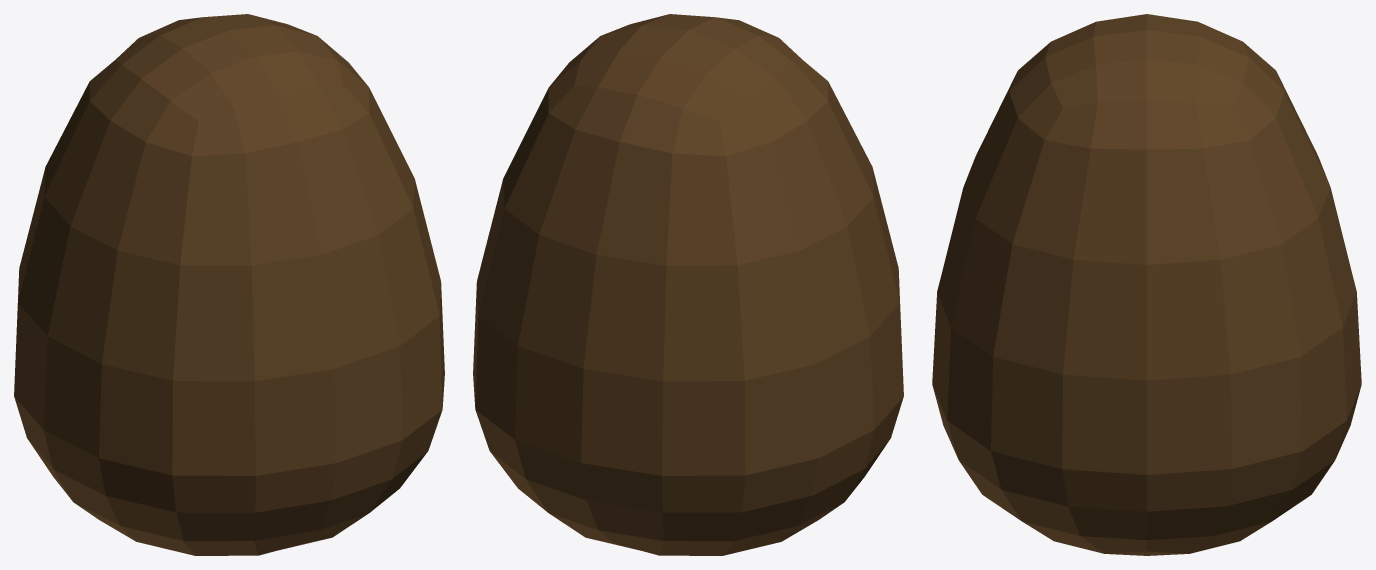
The model's file is Egg_Whole.obj.
The picture shows the model from 3 angles, left to right: view 1: azimuth 30°, elevation 25°; view 2: azimuth 150°, elevation 25°; view 3: azimuth 270°, elevation 25°; orthographic projection.
Visible parts, largest first — view 1: Egg_Whole_Cube.011; view 2: Egg_Whole_Cube.011; view 3: Egg_Whole_Cube.011.
Boxes of the visible parts, box(x1,y1,x2,y2) form: Egg_Whole_Cube.011: box(14, 14, 444, 555); Egg_Whole_Cube.011: box(473, 14, 903, 555); Egg_Whole_Cube.011: box(932, 14, 1361, 555).
Size of the model in its own units: 0.3633 by 0.4659 by 0.3633.
